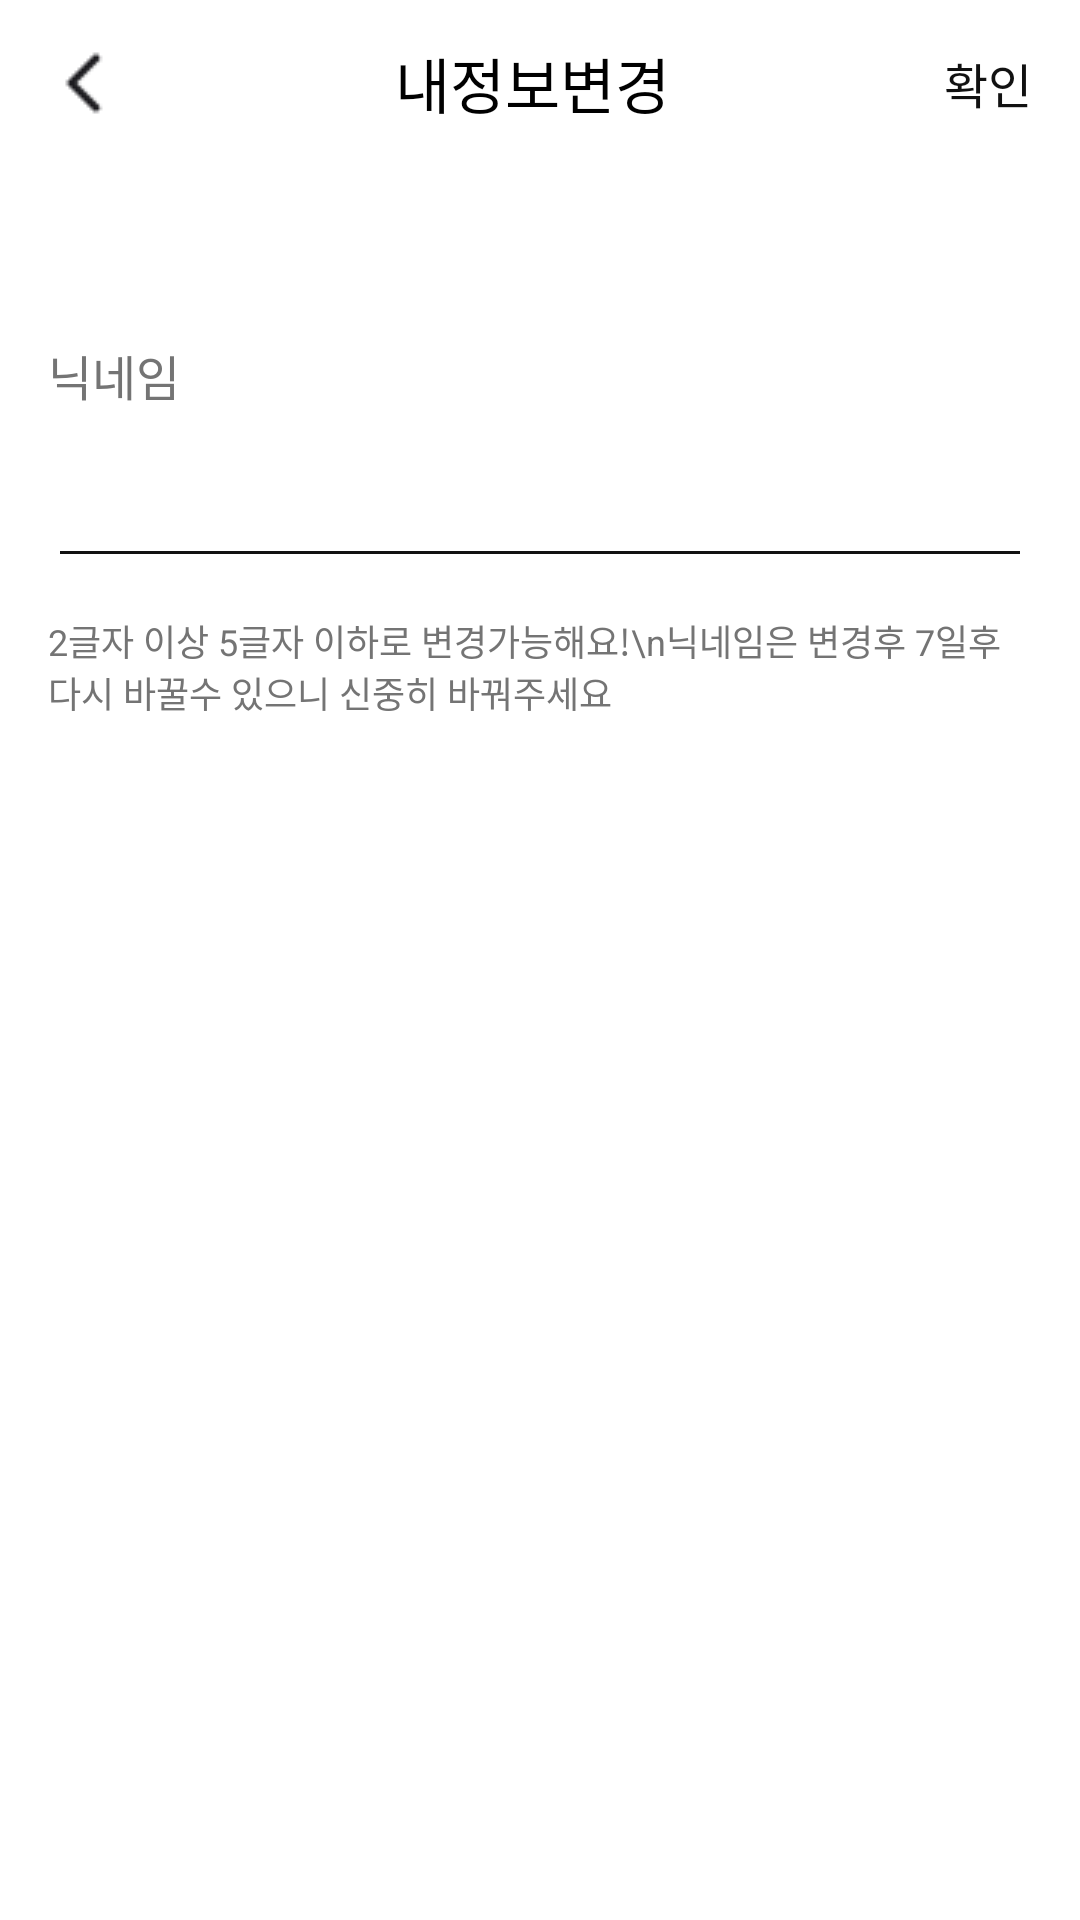

Point at icon controls on the screen. Image size 1080×1920, points as [x,y].
arrow back: [83,83]
